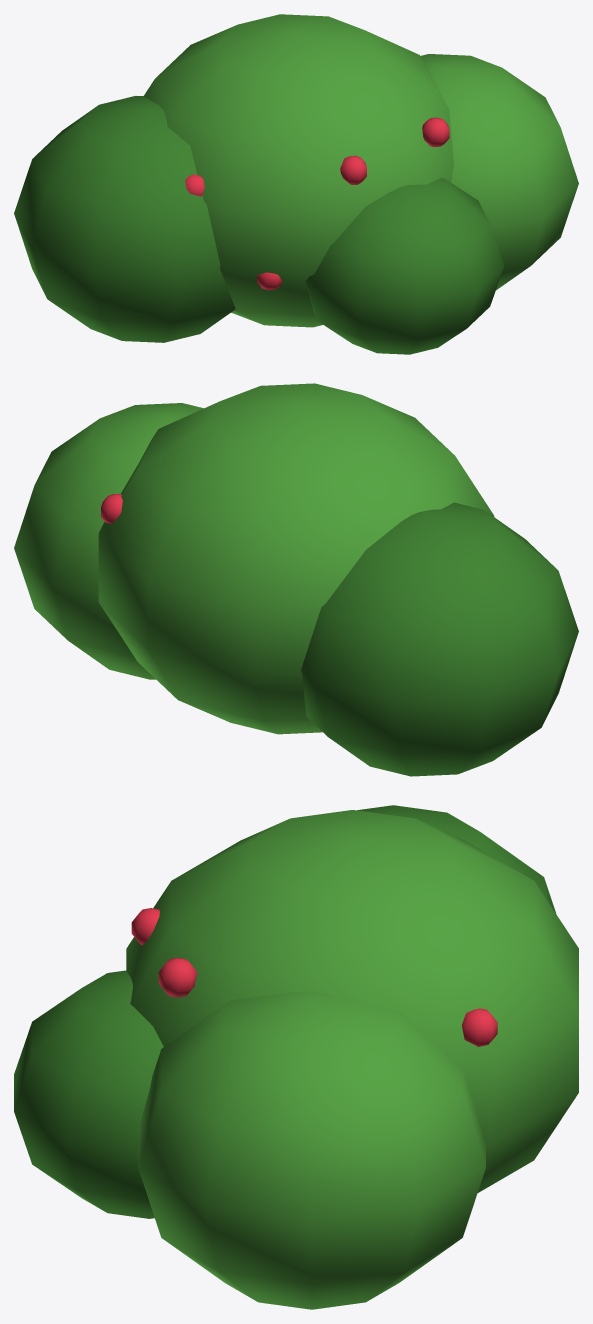
The model's file is Bush.obj.
The picture shows the model from 3 angles, top to bottom: view 1: azimuth 30°, elevation 25°; view 2: azimuth 150°, elevation 25°; view 3: azimuth 270°, elevation 25°; orthographic projection. The views are drawn at different scales.
Parts seen in each view (by area): view 1: Blobs, BlobsDark, Berries; view 2: Blobs, BlobsDark, Berries; view 3: Blobs, BlobsDark, Berries.
Boxes of the visible parts, left/top/right/bottom form: Blobs: left=144, top=14, right=578, bottom=327; BlobsDark: left=14, top=96, right=504, bottom=354; Berries: left=185, top=117, right=449, bottom=290; Blobs: left=14, top=383, right=494, bottom=734; BlobsDark: left=301, top=502, right=578, bottom=776; Berries: left=101, top=494, right=122, bottom=523; Blobs: left=126, top=810, right=578, bottom=1309; BlobsDark: left=14, top=805, right=556, bottom=1218; Berries: left=131, top=908, right=497, bottom=1046.
Size of the model in its own units: 1.9 by 1 by 1.39.
